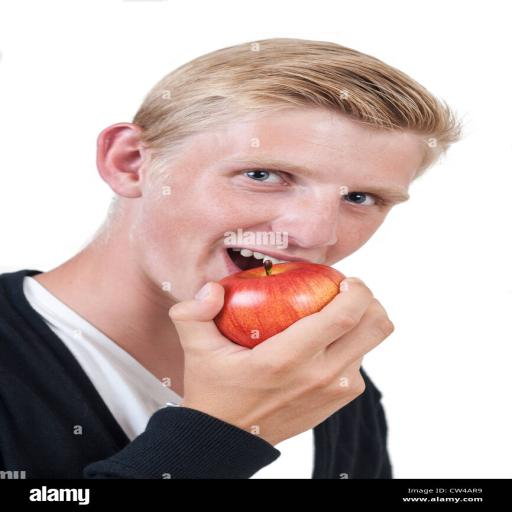apple: (215, 261, 345, 348)
